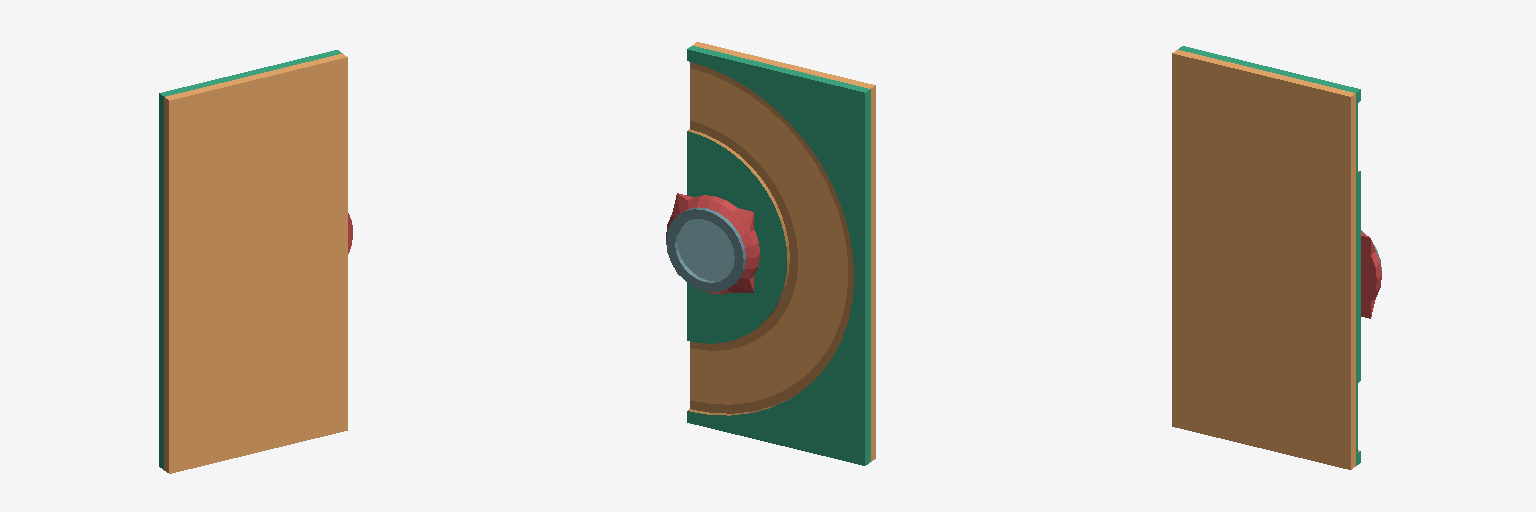
Rendered from tile_cornerLarge.obj.
3 views of the same model, side by side, from view 1: azimuth 30°, elevation 25°; view 2: azimuth 150°, elevation 25°; view 3: azimuth 330°, elevation 25° (orthographic).
Parts seen in each view (by area): view 1: tile_cornerLarge; view 2: tile_cornerLarge; view 3: tile_cornerLarge.
Boxes of the visible parts, box(x1,y1,x2,y2) form: tile_cornerLarge: box(159, 50, 352, 473); tile_cornerLarge: box(666, 42, 875, 465); tile_cornerLarge: box(1172, 46, 1381, 469).
Bounding box in the file's own units: 2.18 × 4 × 0.41.